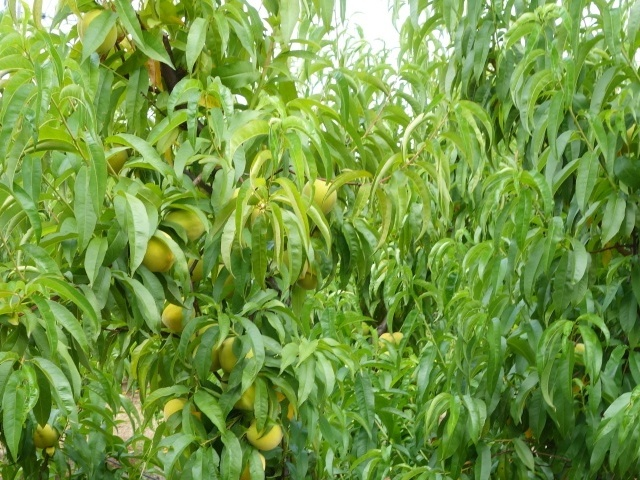peach: (70, 8, 118, 60), (142, 229, 181, 276), (214, 336, 259, 375), (301, 174, 338, 220), (156, 298, 201, 333), (243, 417, 284, 454), (26, 420, 60, 453), (160, 393, 191, 421)
